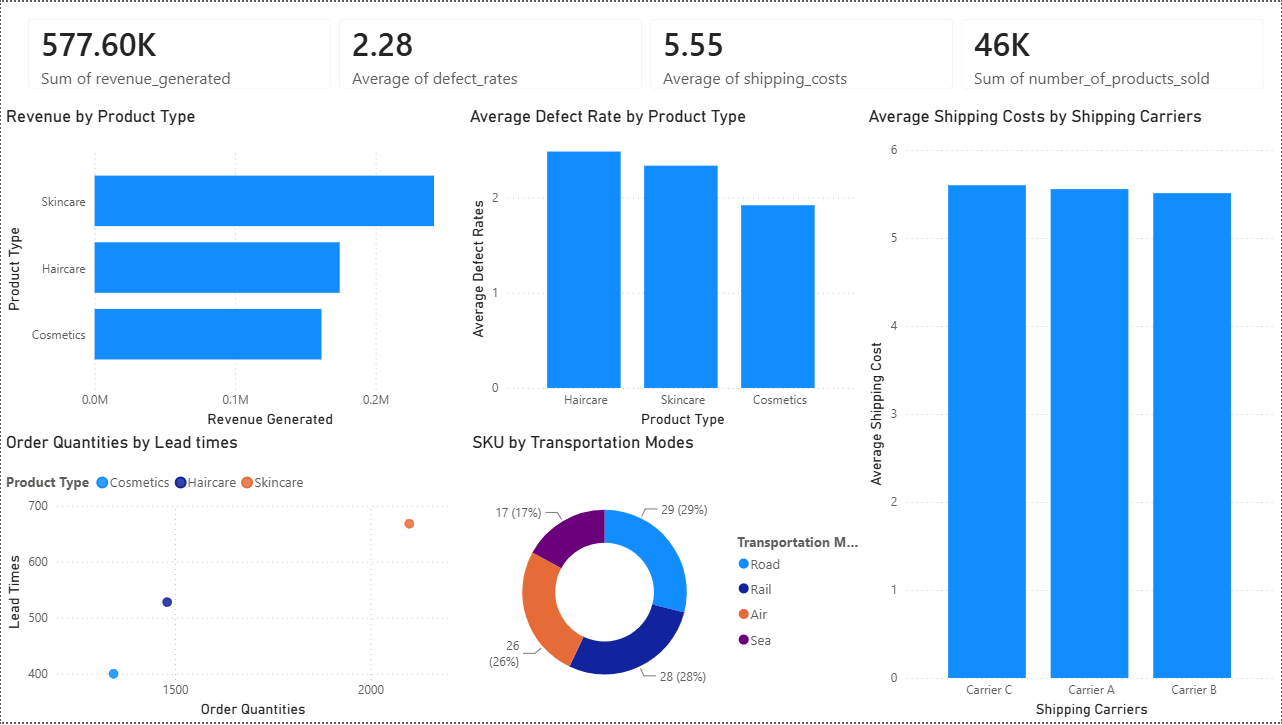

The page's visual inventory and layout, read from the dashboard file:
{"tool":"powerbi","page":{"name":"Page 1","canvas":[1280,720],"ordinal":0},"visuals":[{"type":"cardVisual","fields":{"Data":["Sum(cleaned_supply_chain_data.revenue_generated)","Avg(cleaned_supply_chain_data.defect_rates)","Avg(cleaned_supply_chain_data.shipping_costs)","Sum(cleaned_supply_chain_data.number_of_products_sold)"]},"box":[10,0,1270.3,104.9],"z":0},{"type":"clusteredBarChart","title":"Revenue by Product Type","fields":{"Y":["Sum(cleaned_supply_chain_data.revenue_generated)"],"Category":["cleaned_supply_chain_data.product_type"]},"box":[0,104,464,326],"z":1},{"type":"clusteredColumnChart","title":"Average Defect Rate by Product Type","fields":{"Category":["cleaned_supply_chain_data.product_type"],"Y":["Avg(cleaned_supply_chain_data.defect_rates)"]},"box":[464,104,398,326],"z":2},{"type":"clusteredColumnChart","title":"Average Shipping Costs by Shipping Carriers","fields":{"Category":["cleaned_supply_chain_data.shipping_carriers"],"Y":["Avg(cleaned_supply_chain_data.shipping_costs)"]},"box":[862,104,418,616],"z":3},{"type":"scatterChart","title":"Order Quantities by Lead times","fields":{"X":["Sum(cleaned_supply_chain_data.order_quantities)"],"Y":["Sum(cleaned_supply_chain_data.lead_times)"],"Series":["cleaned_supply_chain_data.product_type"]},"box":[0,430,466,290],"z":4},{"type":"donutChart","title":"SKU by Transportation Modes","fields":{"Category":["cleaned_supply_chain_data.transportation_modes"],"Y":["CountNonNull(cleaned_supply_chain_data.sku)"]},"box":[466,430,396,290],"z":5}]}

Visuals, with their boxes in screenshot pixels (x1, y1, x2, y2), scaled from the page's 1280x720 canvas onto the 1282x725 screenshot:
cardVisual - Sum(cleaned_supply_chain_data.revenue_generated) x Avg(cleaned_supply_chain_data.defect_rates): 10/0/1281/106
"Revenue by Product Type" clusteredBarChart: 0/105/465/433
"Average Defect Rate by Product Type" clusteredColumnChart: 465/105/863/433
"Average Shipping Costs by Shipping Carriers" clusteredColumnChart: 863/105/1281/724
"Order Quantities by Lead times" scatterChart: 0/433/467/724
"SKU by Transportation Modes" donutChart: 467/433/863/724
